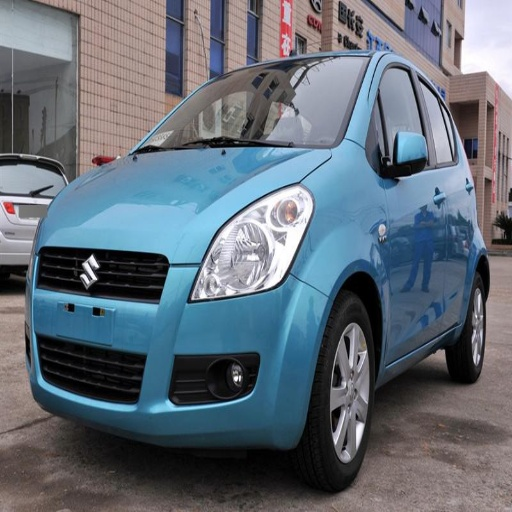front_bumper: (31, 249, 331, 445)
front_glass: (135, 60, 368, 153)
front_left_door: (365, 59, 446, 362)
